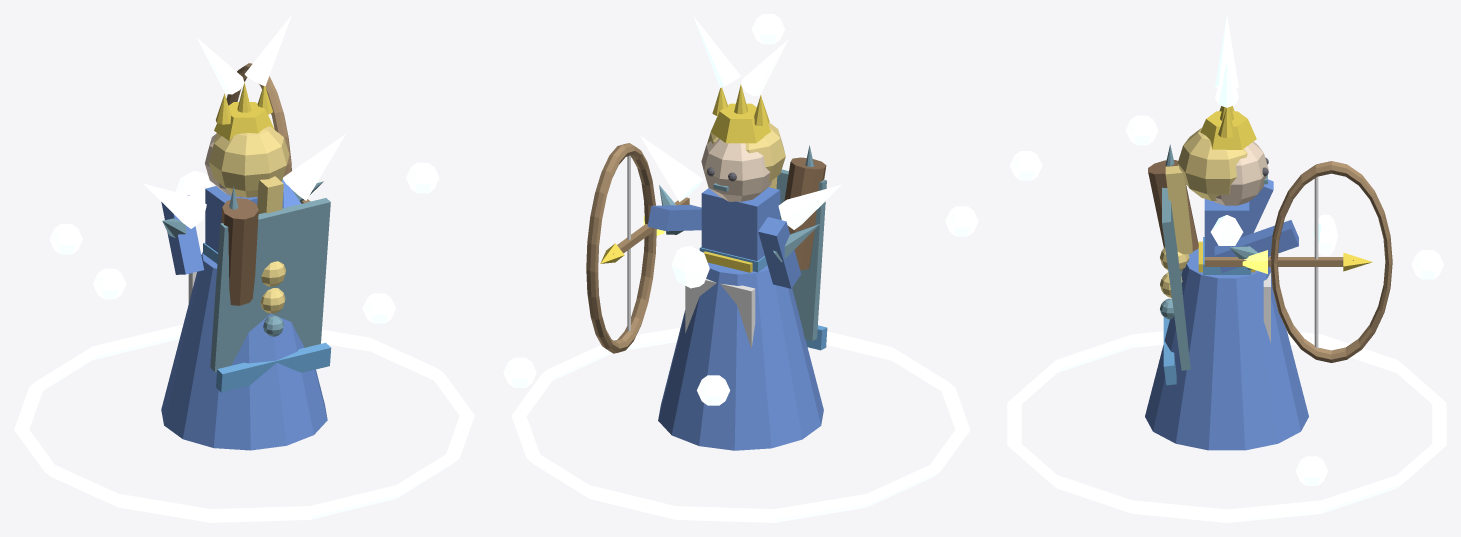
The model's file is evolved_princess.glb.
3 views of the same model, side by side, from view 1: azimuth 30°, elevation 25°; view 2: azimuth 150°, elevation 25°; view 3: azimuth 270°, elevation 25° (orthographic). The views are drawn at different scales.
Visible parts, largest first — view 1: evolved_princess; view 2: evolved_princess; view 3: evolved_princess.
Boxes of the visible parts, left/top/right/bottom form: evolved_princess: left=14, top=15, right=474, bottom=522; evolved_princess: left=503, top=14, right=978, bottom=522; evolved_princess: left=1007, top=15, right=1446, bottom=522.
Size of the model in its own units: 3.32 by 3.21 by 3.24.
